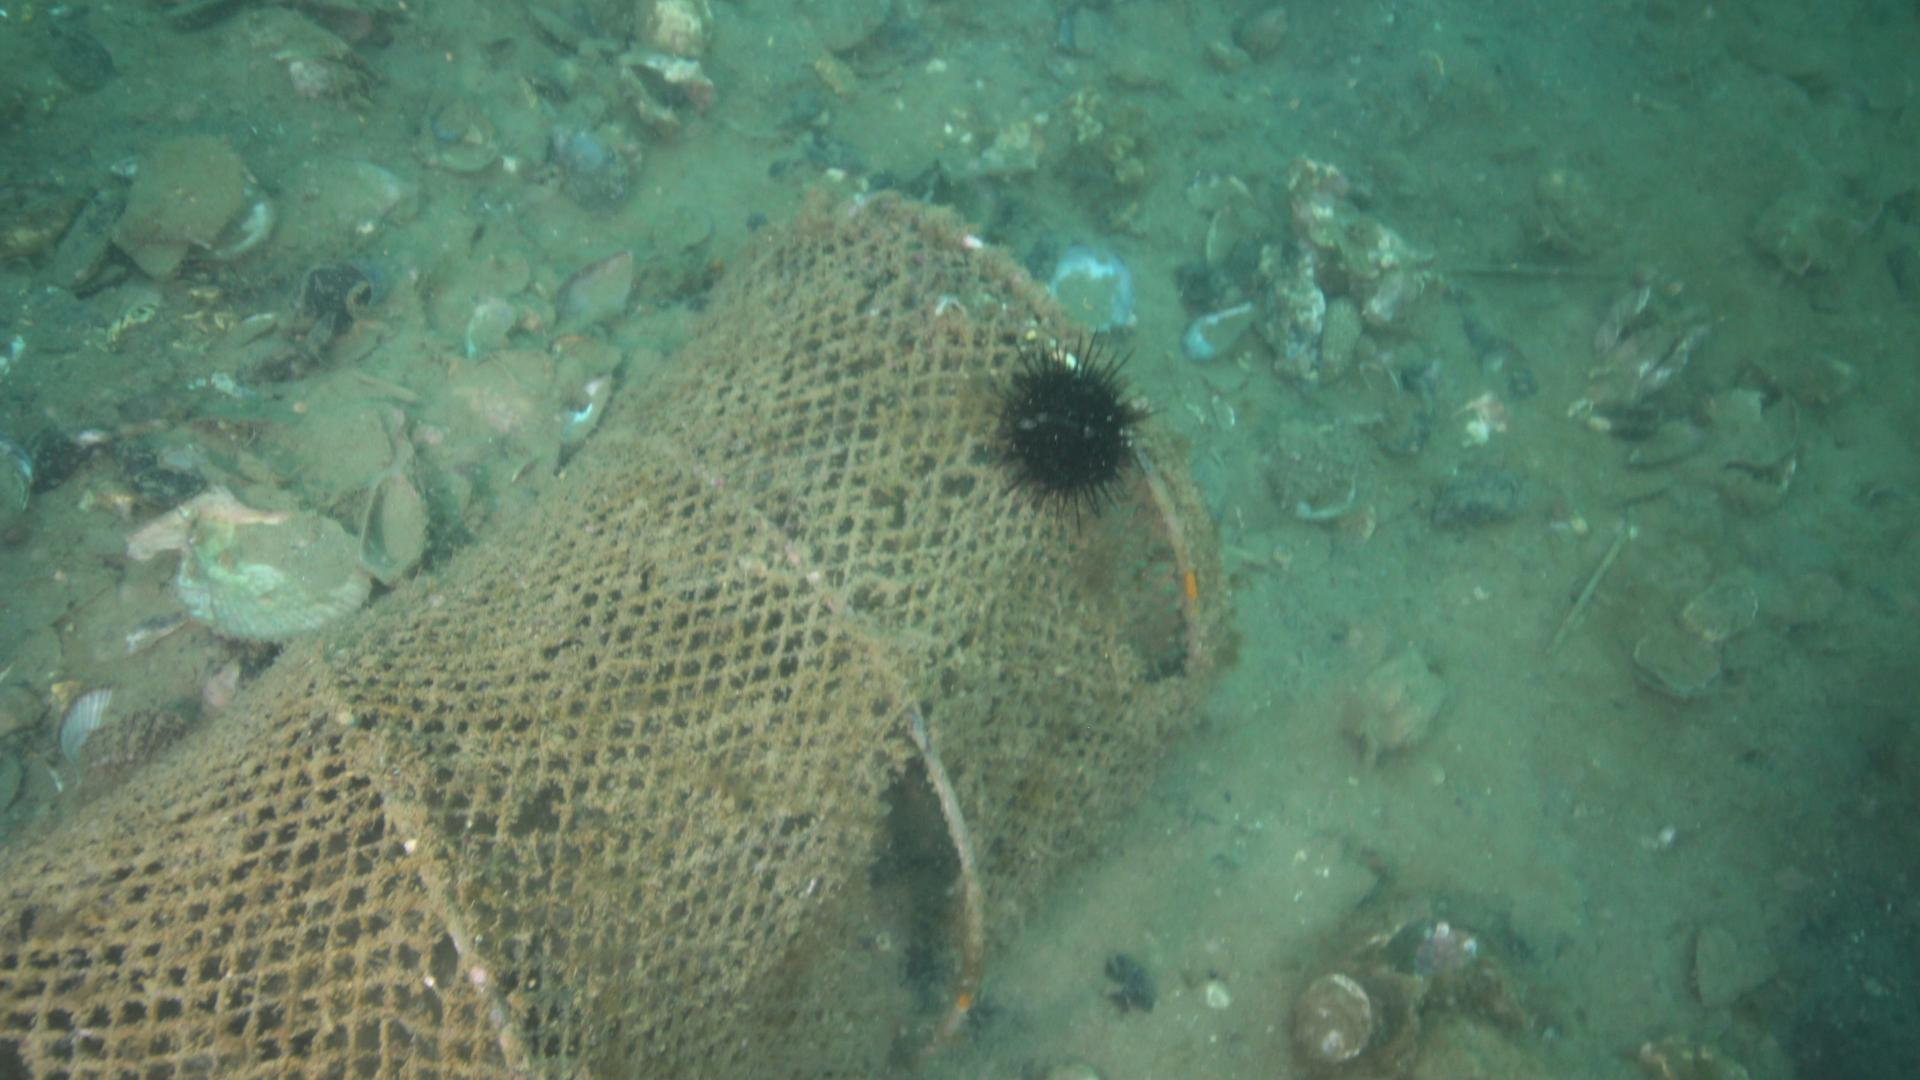spring fish trap: (0, 190, 1233, 1080)
